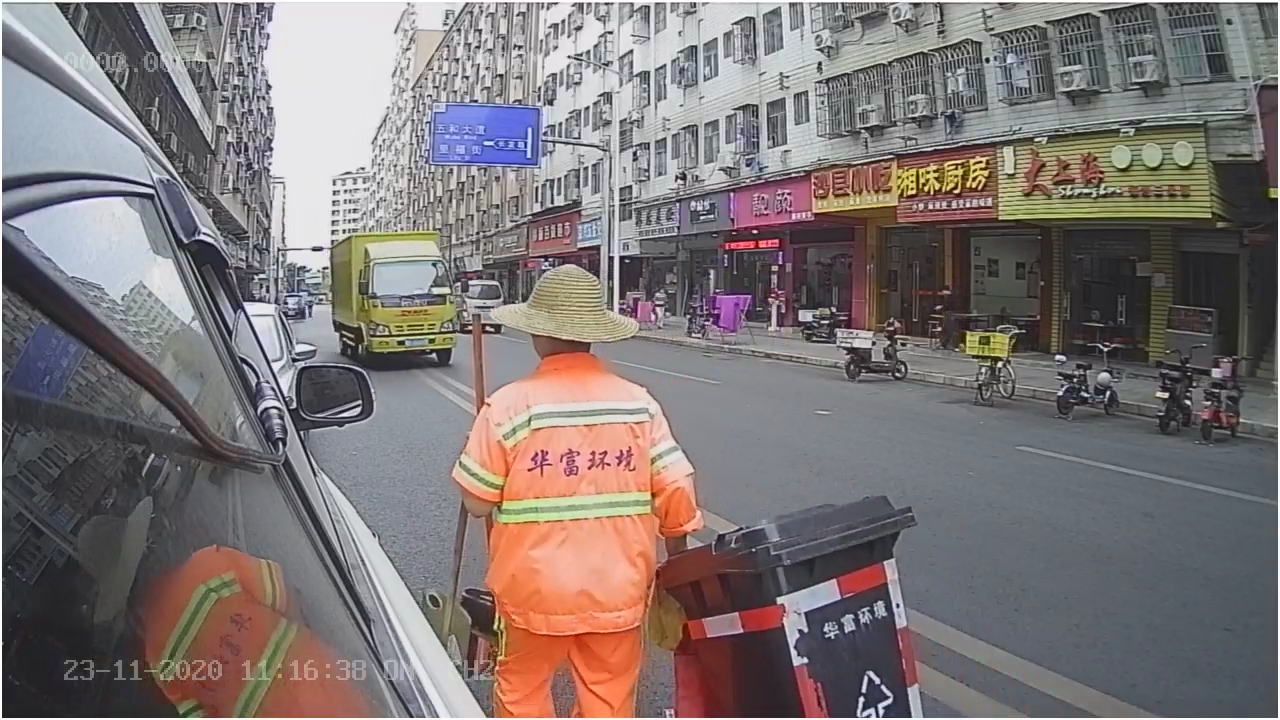person: (488, 263, 712, 538)
